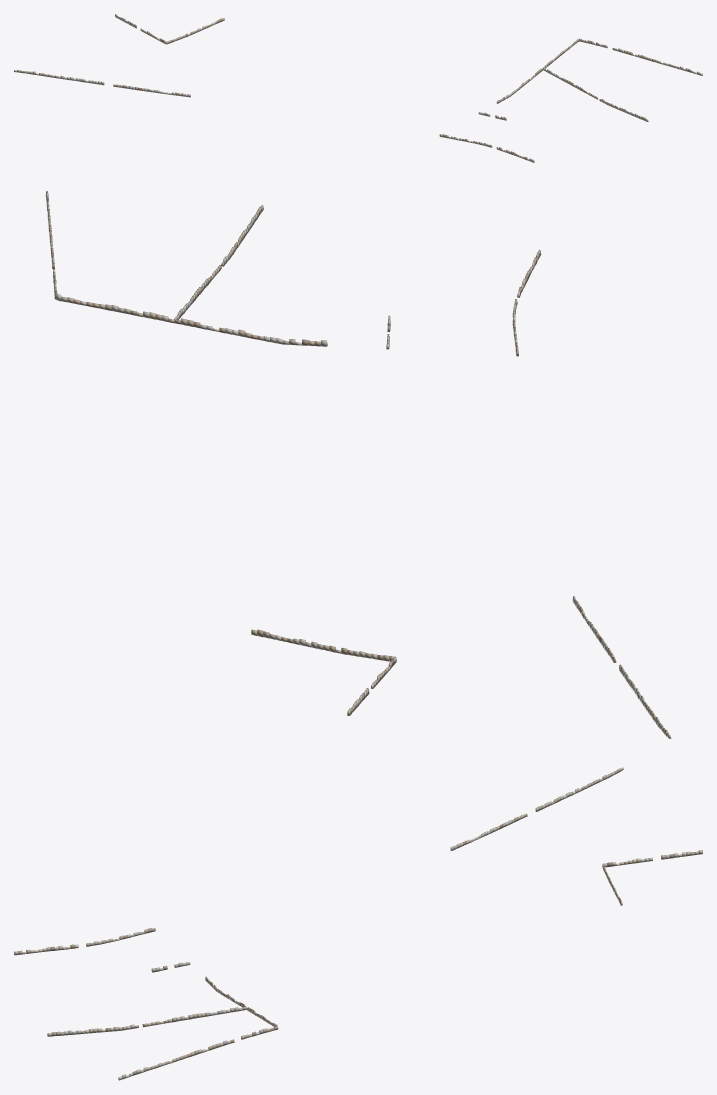
Rendered from farm_-6_16_far.glb.
3 renders of one model, top to bottom at view 1: azimuth 30°, elevation 25°; view 2: azimuth 150°, elevation 25°; view 3: azimuth 270°, elevation 25°, orthographic. The views are drawn at different scales.
Visible parts, largest first — view 1: geometry_0; view 2: geometry_0; view 3: geometry_0.
Boxes of the visible parts, x1=… form: geometry_0: x1=14, y1=14, x2=702, y2=162; geometry_0: x1=45, y1=191, x2=671, y2=738; geometry_0: x1=14, y1=767, x2=702, y2=1080.
Bounding box in the file's own units: 287 × 14.99 × 256.
